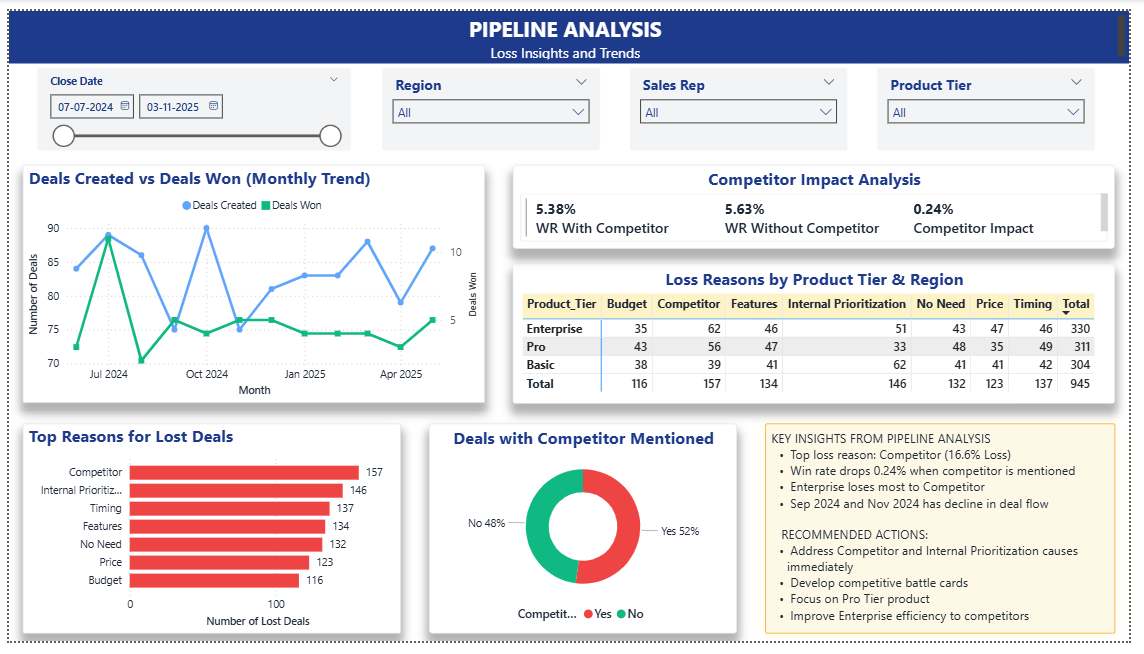

The page's visual inventory and layout, read from the dashboard file:
{"tool":"powerbi","page":{"name":"Pipeline Analysis","canvas":[1280,720],"ordinal":2},"visuals":[{"type":"textbox","box":[0,0,1280,60],"z":0},{"type":"slicer","fields":{"Values":["cleaned_cloudnova_sales_pipeline.Close_Date"]},"box":[32,64,360,96],"z":1000},{"type":"slicer","fields":{"Values":["cleaned_cloudnova_sales_pipeline.Region"]},"box":[425.3,64,250,96],"z":2000},{"type":"slicer","fields":{"Values":["cleaned_cloudnova_sales_pipeline.Sales_Rep"]},"box":[708.7,64,250,96],"z":3000},{"type":"slicer","fields":{"Values":["cleaned_cloudnova_sales_pipeline.Product_Tier"]},"box":[992,64,250,96],"z":4000},{"type":"barChart","title":"Top Reasons for Lost Deals","fields":{"Category":["cleaned_cloudnova_sales_pipeline.Loss_Reason"],"Y":["CountNonNull(cleaned_cloudnova_sales_pipeline.Opportunity_ID)"]},"box":[16,471,432,240],"z":5000},{"type":"donutChart","title":"Deals with Competitor Mentioned","fields":{"Category":["cleaned_cloudnova_sales_pipeline.Competitor_Mentioned"],"Y":["CountNonNull(cleaned_cloudnova_sales_pipeline.Opportunity_ID)"]},"box":[480,471,352,240],"z":6000},{"type":"pivotTable","title":"Loss Reasons by Product Tier & Region","fields":{"Rows":["cleaned_cloudnova_sales_pipeline.Product_Tier"],"Columns":["cleaned_cloudnova_sales_pipeline.Loss_Reason"],"Values":["CountNonNull(cleaned_cloudnova_sales_pipeline.Opportunity_ID)"]},"box":[576,288,688,160],"z":7000},{"type":"lineChart","title":"Deals Created vs Deals Won (Monthly Trend)","fields":{"Y":["CountNonNull(cleaned_cloudnova_sales_pipeline.Opportunity_ID)"],"Y2":["Measure Table.Deals Closed Won by Month"],"Category":["cleaned_cloudnova_sales_pipeline.Month_Created"]},"box":[16,176,528,272],"z":8000},{"type":"multiRowCard","title":"Competitor Impact Analysis","fields":{"Values":["Measure Table.Win Rate With Competitor","Measure Table.Win Rate Without Competitor","Measure Table.Competitor Impact"]},"box":[576,176,688,96],"z":9000},{"type":"textbox","box":[864,471,400,240],"z":10000}]}

Visuals, with their boxes in screenshot pixels (x1, y1, x2, y2), scaled from the page's 1280x720 canvas onto the 1144x654 screenshot:
textbox: (0,0,1143,54)
slicer - cleaned_cloudnova_sales_pipeline.Close_Date: (29,58,350,145)
slicer - cleaned_cloudnova_sales_pipeline.Region: (380,58,604,145)
slicer - cleaned_cloudnova_sales_pipeline.Sales_Rep: (633,58,857,145)
slicer - cleaned_cloudnova_sales_pipeline.Product_Tier: (887,58,1110,145)
"Top Reasons for Lost Deals" barChart: (14,428,400,646)
"Deals with Competitor Mentioned" donutChart: (429,428,744,646)
"Loss Reasons by Product Tier & Region" pivotTable: (515,262,1130,407)
"Deals Created vs Deals Won (Monthly Trend)" lineChart: (14,160,486,407)
"Competitor Impact Analysis" multiRowCard: (515,160,1130,247)
textbox: (772,428,1130,646)
